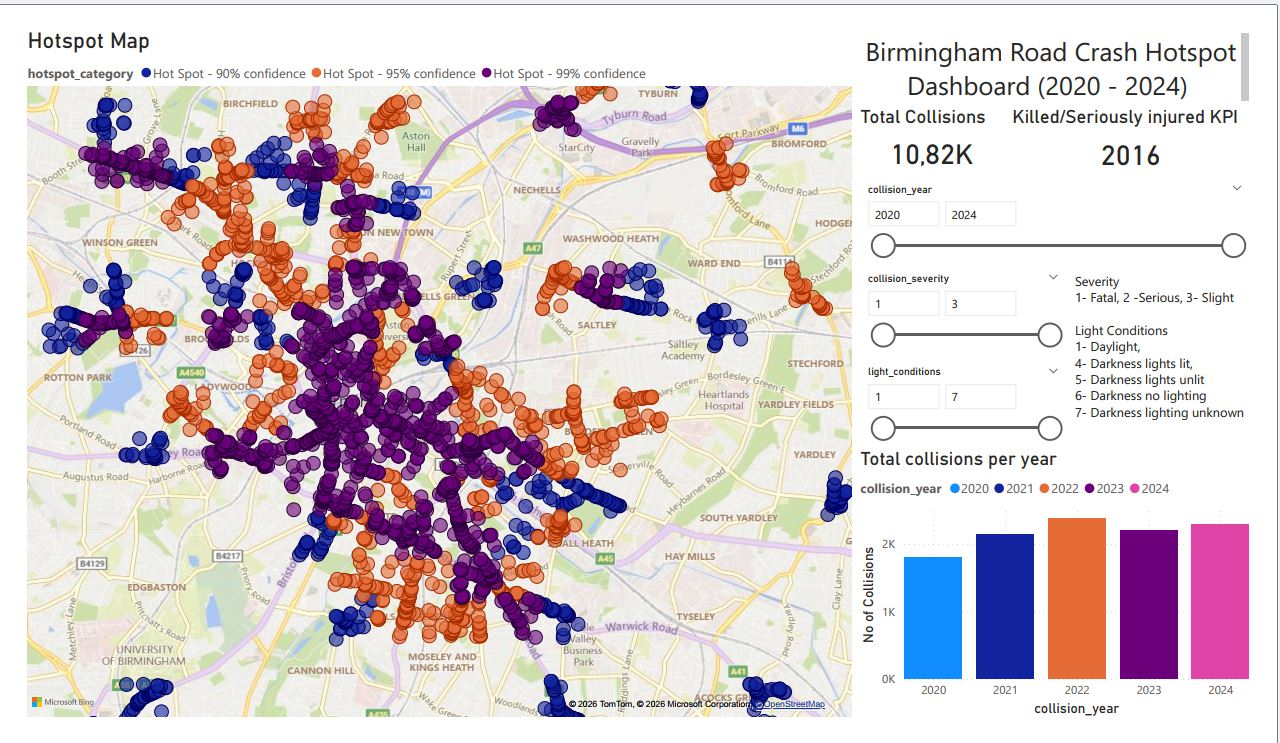

What the dashboard file says about the page in this screenshot:
{"tool":"powerbi","page":{"name":"Page 1","canvas":[1280,720],"ordinal":0},"visuals":[{"type":"map","title":"Hotspot Map","fields":{"Y":["bham_crashes_flat_for_powerbi.latitude"],"X":["bham_crashes_flat_for_powerbi.longitude"],"Series":["bham_crashes_flat_for_powerbi.hotspot_category"]},"box":[0,0,865.7,720],"z":0},{"type":"slicer","fields":{"Values":["bham_crashes_flat_for_powerbi.collision_year"]},"box":[865.7,155.7,414.3,92.9],"z":1000},{"type":"slicer","fields":{"Values":["bham_crashes_flat_for_powerbi.collision_severity"]},"box":[865.7,248.6,222.9,85.7],"z":2000},{"type":"slicer","fields":{"Values":["bham_crashes_flat_for_powerbi.light_conditions"]},"box":[865.7,345.7,222.9,90],"z":3000},{"type":"card","title":"Total Collisions","fields":{"Values":["CountNonNull(bham_crashes_flat_for_powerbi.collision_index)"]},"box":[865.7,81.4,158.6,74.3],"z":4000},{"type":"card","title":"Killed/Seriously injured KPI","fields":{"Values":["bham_crashes_flat_for_powerbi.KSI Count"]},"box":[1024.3,81.4,255.7,75.7],"z":5000},{"type":"columnChart","title":"Total collisions per year","fields":{"Category":["bham_crashes_flat_for_powerbi.collision_year"],"Y":["CountNonNull(bham_crashes_flat_for_powerbi.cell_total_crash_count)"],"Series":["bham_crashes_flat_for_powerbi.collision_year"]},"box":[865.7,435.7,414.3,284.3],"z":6000},{"type":"textbox","box":[865.7,0,414.3,81.4],"z":7000},{"type":"textbox","box":[1088.6,248.6,191.4,187.1],"z":7001}]}

Visuals, with their boxes on the page's 1280x720 design canvas (x1, y1, x2, y2). These are canvas units, not pixel positions in the 1280x743 screenshot, which may show the page scaled, cropped or inside an application window:
"Hotspot Map" map: BBox(0, 0, 866, 720)
slicer - bham_crashes_flat_for_powerbi.collision_year: BBox(866, 156, 1280, 249)
slicer - bham_crashes_flat_for_powerbi.collision_severity: BBox(866, 249, 1089, 334)
slicer - bham_crashes_flat_for_powerbi.light_conditions: BBox(866, 346, 1089, 436)
"Total Collisions" card: BBox(866, 81, 1024, 156)
"Killed/Seriously injured KPI" card: BBox(1024, 81, 1280, 157)
"Total collisions per year" columnChart: BBox(866, 436, 1280, 720)
textbox: BBox(866, 0, 1280, 81)
textbox: BBox(1089, 249, 1280, 436)
